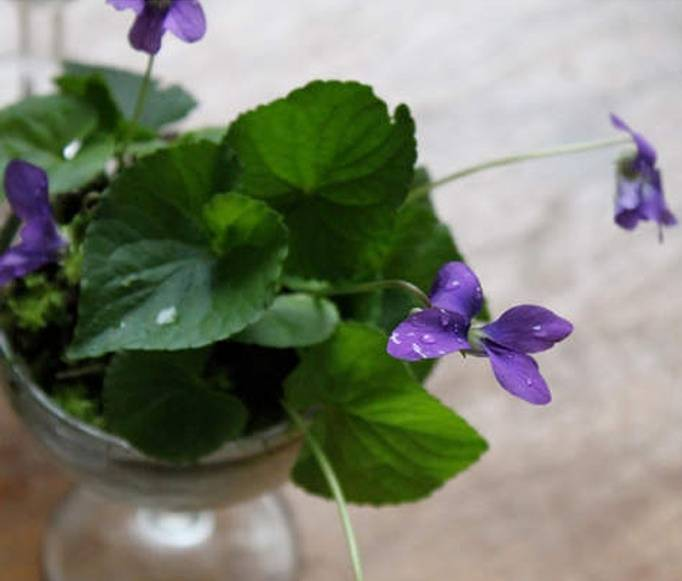violet: (403, 256, 566, 424), (599, 109, 682, 237), (7, 157, 73, 289), (111, 3, 219, 72)
